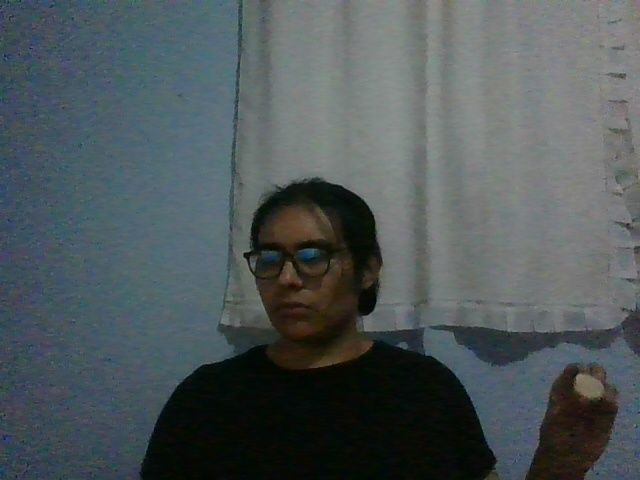goma: (574, 374, 604, 401)
